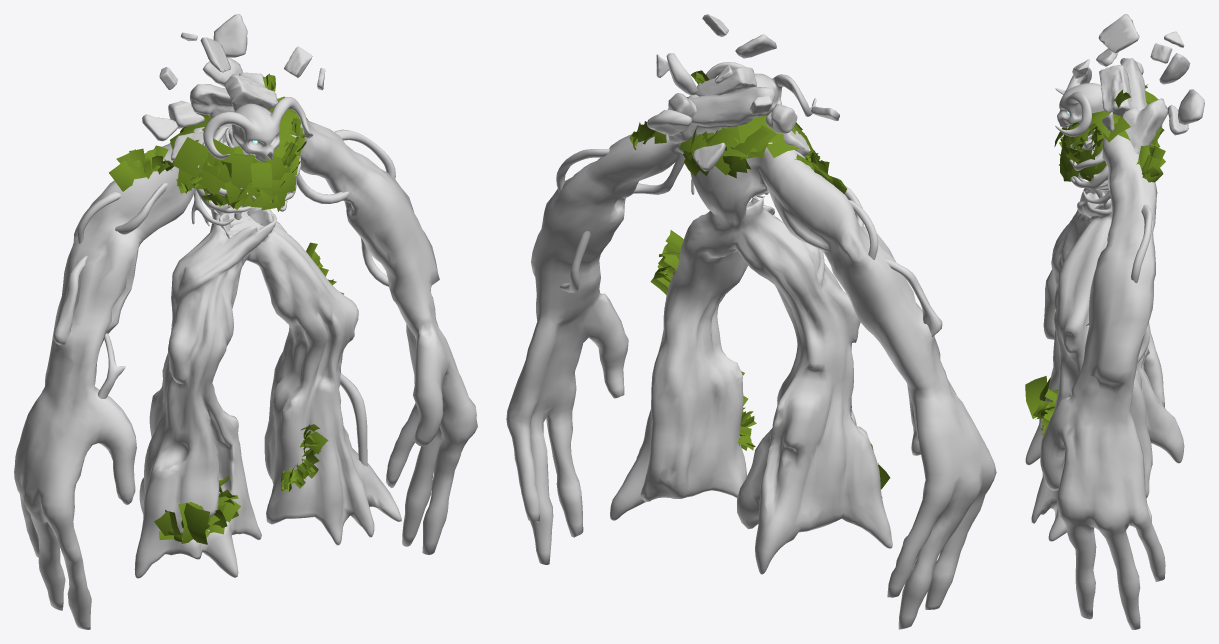
Rendered from Tree_golem.fbx.
The picture shows the model from 3 angles, left to right: view 1: azimuth 30°, elevation 25°; view 2: azimuth 150°, elevation 25°; view 3: azimuth 270°, elevation 25°; orthographic projection. The views are drawn at different scales.
Parts seen in each view (by area): view 1: body_low, skull_low, wood_skeleton_low, Rock_05_low, Rock_06_low, R_arm_branch_03_low, Rock_01_low, L_leg_branch_low, Leaf_large.018, Leaf_large.033, Leaf004.003, L_arm_branch_02_low (+1 smaller); view 2: body_low, Rock_06_low, skull_low, Rock_05_low, R_arm_branch_03_low, Rock_01_low.001, Rock_04_low, Rock_07_low, Rock_01_low; view 3: body_low, skull_low, Rock_04_low, Rock_05_low, wood_skeleton_low, Rock_08_low, Rock_06_low, Rock_01_low.001, L_arm_branch_02_low, Rock_01_low, Leaf004.003, Rock_11_low.001 (+2 smaller).
Boxes of the visible parts, x1,y1,x2,y2 form: body_low: (14,118,477,629); skull_low: (203,97,313,162); wood_skeleton_low: (191,126,305,226); Rock_05_low: (224,74,277,111); Rock_06_low: (190,84,234,117); R_arm_branch_03_low: (53,255,87,345); Rock_01_low: (213,14,247,57); L_leg_branch_low: (340,373,367,466); Leaf_large.018: (173,137,208,178); Leaf_large.033: (216,152,251,192); Leaf004.003: (181,503,210,544); L_arm_branch_02_low: (334,129,395,179); body_low: (506,134,996,629); Rock_06_low: (690,87,775,135); skull_low: (706,62,816,116); Rock_05_low: (696,66,756,96); R_arm_branch_03_low: (884,258,942,336); Rock_01_low.001: (647,109,691,135); Rock_04_low: (668,93,698,143); Rock_07_low: (765,103,797,133); Rock_01_low: (666,53,698,95); body_low: (1025,125,1184,629); skull_low: (1055,67,1104,136); Rock_04_low: (1122,98,1167,154); Rock_05_low: (1099,65,1131,116); wood_skeleton_low: (1067,127,1110,208); Rock_08_low: (1098,14,1139,53); Rock_06_low: (1120,58,1147,112); Rock_01_low.001: (1178,89,1204,124); L_arm_branch_02_low: (1131,204,1152,283); Rock_01_low: (1159,53,1190,84); Leaf004.003: (1025,376,1046,418); Rock_11_low.001: (1167,105,1188,135).
Size of the model in its own units: 259 by 311 by 97.26.
